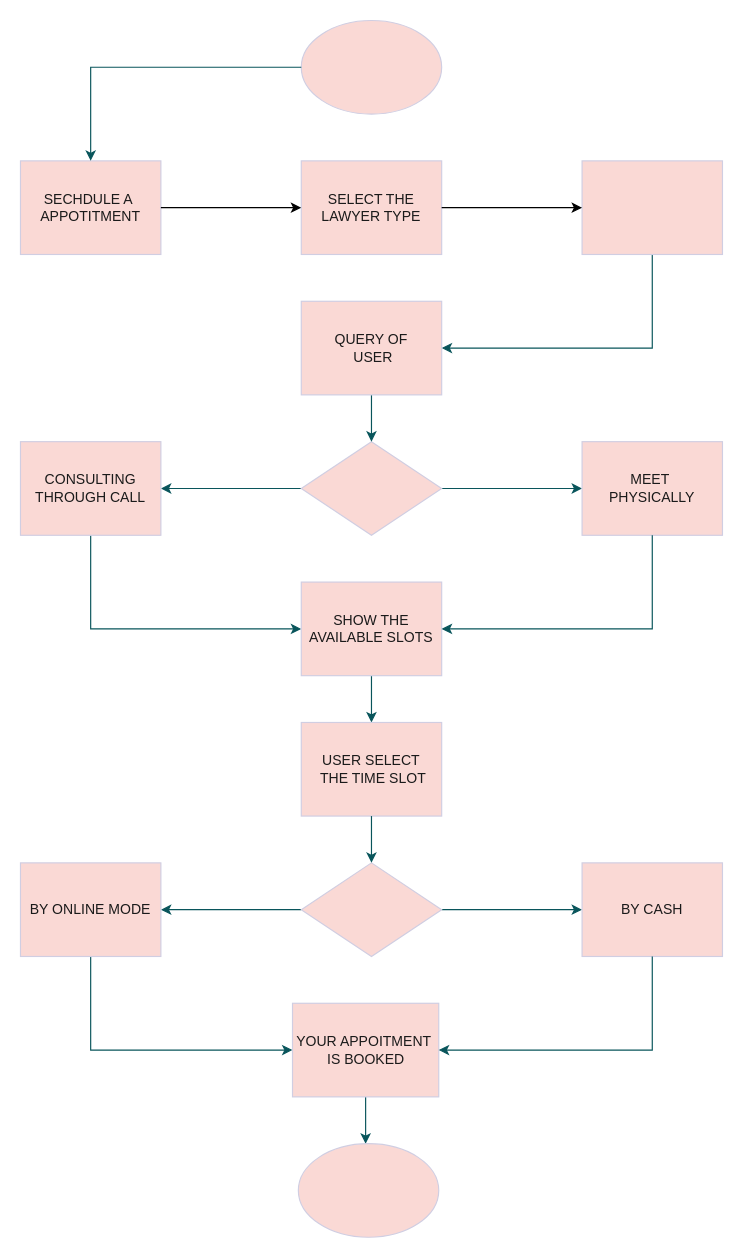
Some shapes in this 743 by 1258 pixel diagram are drawn without their labels. Each missing label, with the centre of its shape:
APPOITMENT DEPOSIT: pixel 371 909
APPOITMENT TYPE: pixel 371 488
END: pixel 368 1190
SELECT THE LAWYER: pixel 651 207
START: pixel 371 66
